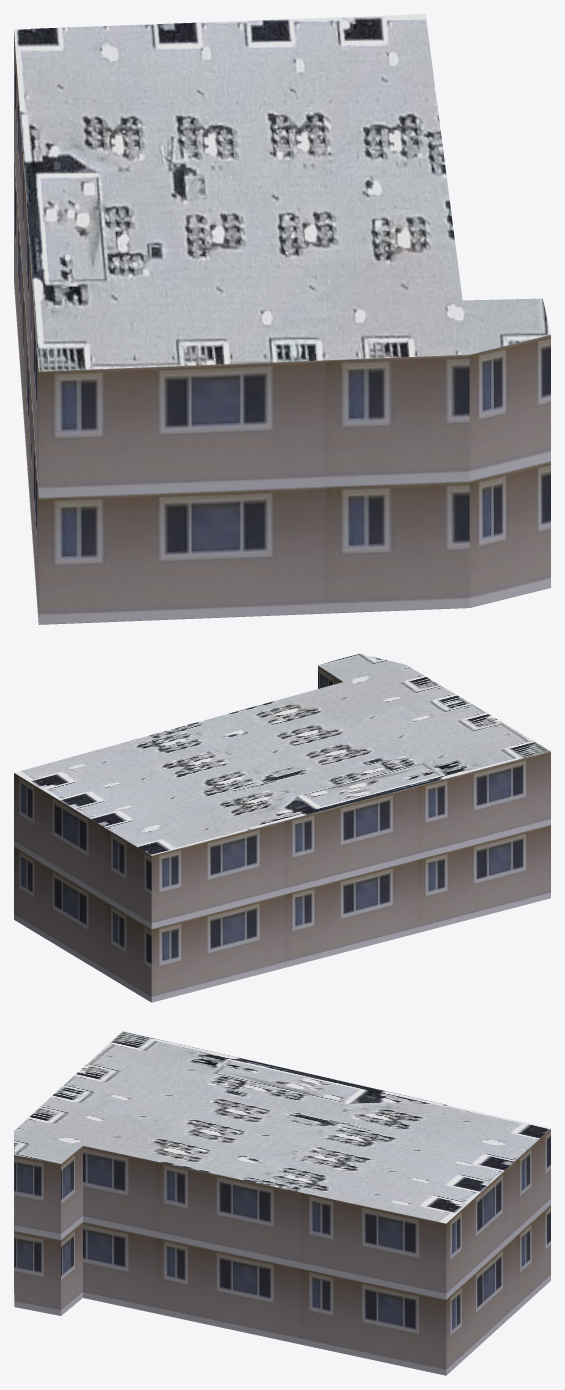
The model's file is ResTex__2676.fbx.
3 views of the same model, one above another, from view 1: azimuth 30°, elevation 25°; view 2: azimuth 150°, elevation 25°; view 3: azimuth 270°, elevation 25° (orthographic). The views are drawn at different scales.
Visible parts, largest first — view 1: CityEngineMaterial_m, CityEngineMaterial_21_m; view 2: CityEngineMaterial_21_m, CityEngineMaterial_m; view 3: CityEngineMaterial_21_m, CityEngineMaterial_m.
Part boxes in pixels (box(x1,y1,x2,y2)): CityEngineMaterial_m: box(14, 14, 550, 371); CityEngineMaterial_21_m: box(14, 32, 550, 624); CityEngineMaterial_21_m: box(14, 665, 550, 1002); CityEngineMaterial_m: box(14, 653, 550, 855); CityEngineMaterial_21_m: box(14, 1129, 550, 1375); CityEngineMaterial_m: box(14, 1031, 550, 1223).
Size of the model in its own units: 16.27 by 6 by 19.2.
2 materials, 2 textured.
